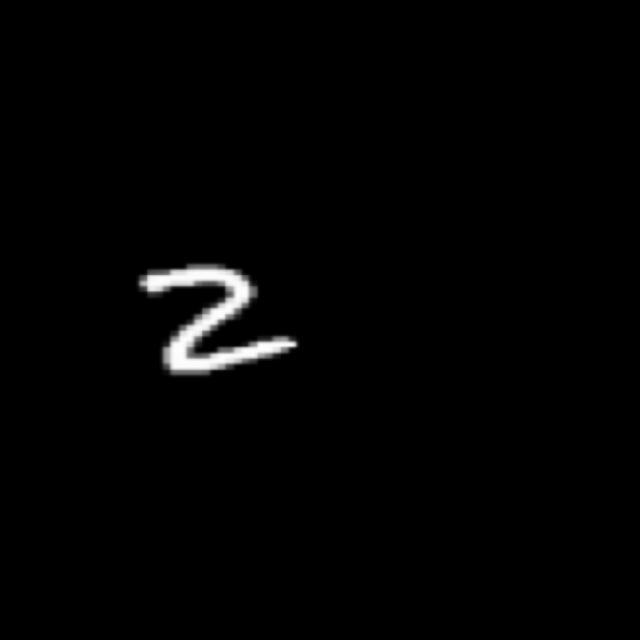two -2-: (131, 260, 302, 379)
